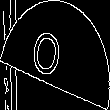O_S: (37, 24, 73, 86)
